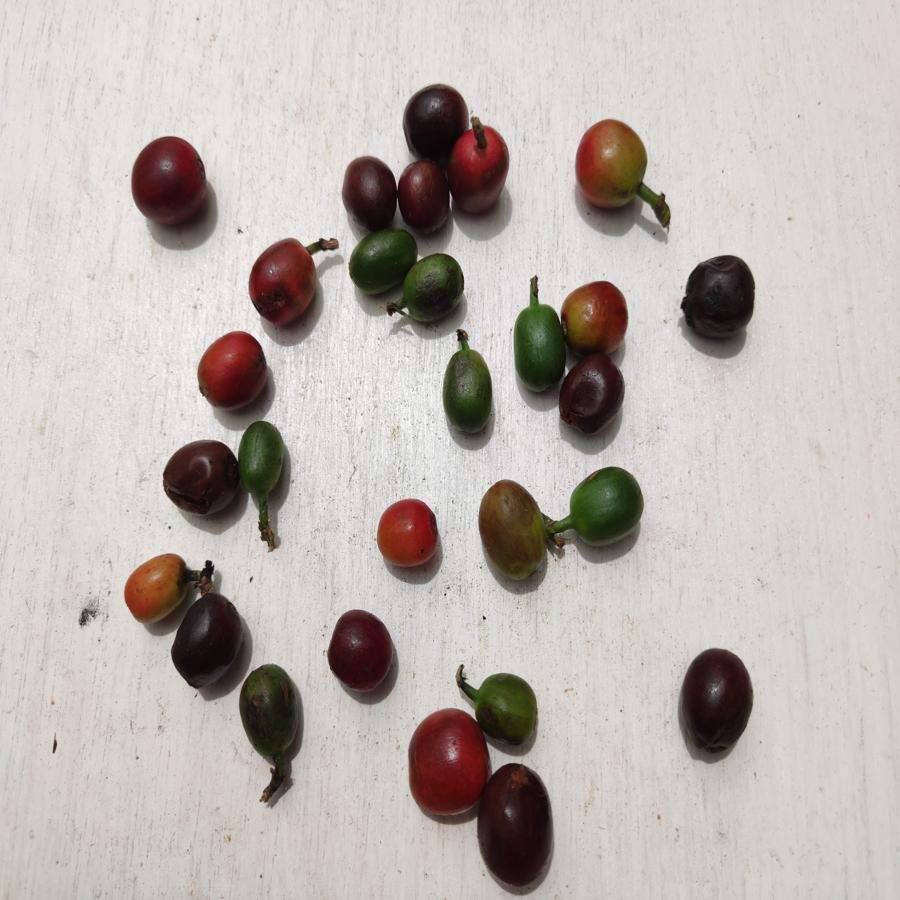Inmaduro: (562, 463, 644, 545), (242, 662, 306, 759), (437, 340, 499, 433), (469, 669, 542, 747), (350, 229, 424, 303), (510, 301, 566, 396), (401, 254, 469, 330), (240, 419, 288, 496)
Maduro: (405, 708, 484, 819), (199, 330, 271, 411), (371, 494, 440, 570)
Pinton: (576, 118, 653, 215), (479, 481, 547, 581), (120, 551, 185, 623), (564, 282, 632, 349)
Sobremaduro: (477, 760, 557, 888), (124, 134, 211, 229), (677, 648, 753, 756), (677, 251, 761, 338), (169, 593, 244, 688), (157, 440, 242, 521), (247, 236, 320, 326), (325, 610, 396, 696), (450, 122, 510, 219), (395, 80, 466, 160), (332, 154, 405, 228), (557, 355, 622, 436), (399, 154, 448, 233)
